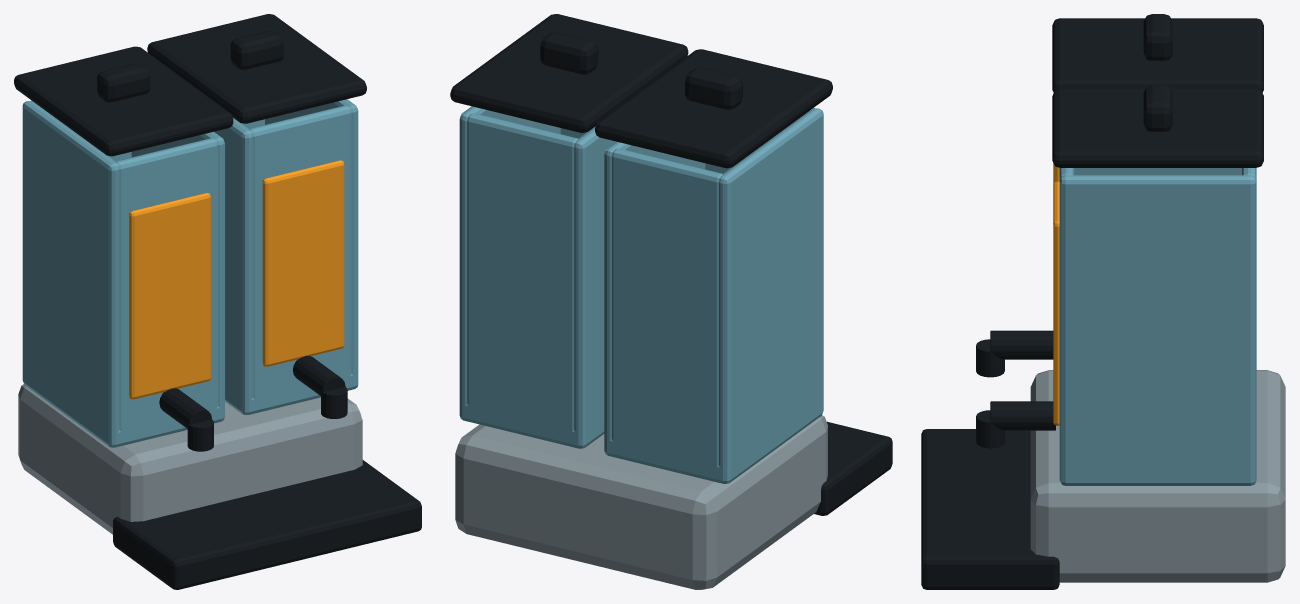
The model's file is edited.glb.
3 views of the same model, side by side, from view 1: azimuth 30°, elevation 25°; view 2: azimuth 150°, elevation 25°; view 3: azimuth 270°, elevation 25° (orthographic). The views are drawn at different scales.
Parts seen in each view (by area): view 1: TANK_FrostedSide, BASE, DRIP_Tray, CONTENTS_Indicator, CONTENTS_Indicator.001, LID, LID.001, TANK_FrostedEnd.002, TANK_FrostedEnd, TANK_FrostedSide.002, TANK_FrostedSide.003, TANK_FrostedBase (+8 smaller); view 2: BASE, TANK_FrostedEnd.003, TANK_FrostedEnd.001, TANK_FrostedSide, LID, LID.001, TANK_FrostedSide.002, DRIP_Tray, TANK_FrostedBase, TANK_FrostedSide.003, TANK_FrostedSide.001, TANK_FrostedBase.001 (+2 smaller); view 3: TANK_FrostedSide.003, BASE, DRIP_Tray, LID.001, LID, TANK_FrostedBase.001, TAP_Spout.001, TAP_Spout, CONTENTS_Indicator, TANK_FrostedSide.002, LID_Handle.001, LID_Handle (+2 smaller).
Boxes of the visible parts, box(x1,y1,x2,y2) form: TANK_FrostedSide: box(22, 101, 119, 434); BASE: box(18, 384, 362, 534); DRIP_Tray: box(113, 460, 421, 589); CONTENTS_Indicator: box(262, 160, 344, 366); CONTENTS_Indicator.001: box(129, 193, 210, 399); LID: box(14, 46, 233, 156); LID.001: box(147, 14, 366, 123); TANK_FrostedEnd.002: box(249, 105, 351, 399); TANK_FrostedEnd: box(115, 138, 217, 432); TANK_FrostedSide.002: box(214, 118, 252, 401); TANK_FrostedSide.003: box(265, 99, 358, 375); TANK_FrostedBase: box(22, 369, 224, 447); BASE: box(455, 415, 827, 589); TANK_FrostedEnd.003: box(467, 113, 578, 431); TANK_FrostedEnd.001: box(612, 148, 722, 467); TANK_FrostedSide: box(719, 108, 823, 469); LID: box(595, 49, 832, 168); LID.001: box(450, 14, 688, 132); TANK_FrostedSide.002: box(574, 126, 615, 434); DRIP_Tray: box(814, 421, 892, 515); TANK_FrostedBase: box(604, 398, 823, 483); TANK_FrostedSide.003: box(459, 106, 560, 406); TANK_FrostedSide.001: box(604, 141, 705, 441); TANK_FrostedBase.001: box(459, 403, 604, 448); TANK_FrostedSide.003: box(1059, 175, 1256, 471); BASE: box(1030, 370, 1285, 582); DRIP_Tray: box(921, 429, 1059, 589); LID.001: box(1052, 89, 1263, 167); LID: box(1052, 18, 1263, 92); TANK_FrostedBase.001: box(1059, 468, 1256, 485); TAP_Spout.001: box(990, 401, 1055, 430); TAP_Spout: box(990, 330, 1053, 359); CONTENTS_Indicator: box(1053, 181, 1059, 425); TANK_FrostedSide.002: box(1074, 168, 1241, 175); LID_Handle.001: box(1143, 85, 1172, 131); LID_Handle: box(1143, 14, 1172, 60).
Size of the model in its own units: 0.45 by 0.7075 by 0.5.
